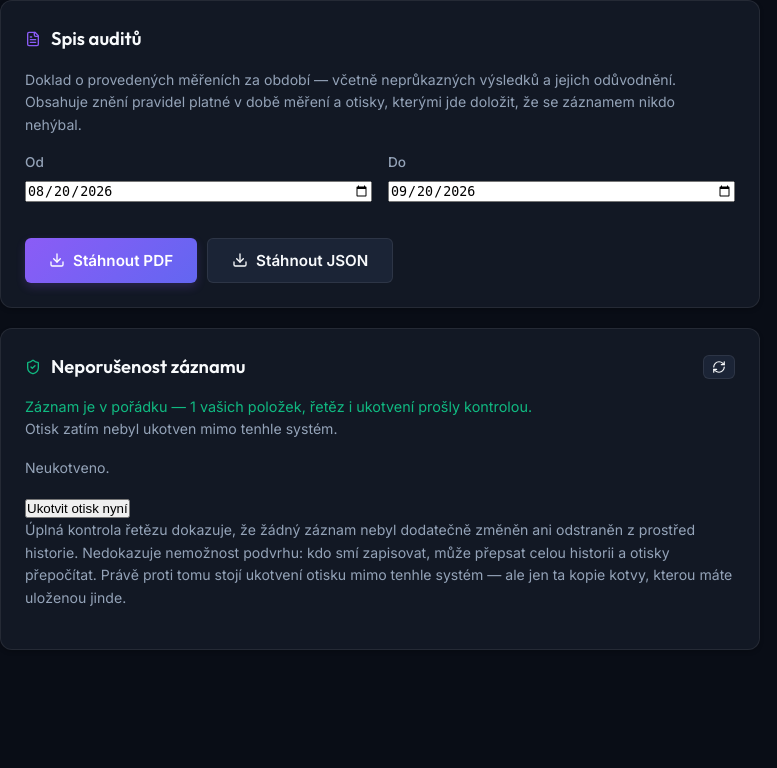
Scenario: ukotvení otisku (D6) › ukotvení vrátí text určený k uložení mimo systém
The image size is (777, 768).
Expected: the text "Záznam je v pořádku — 1 vašich položek, řetěz i ukotvení prošly kontrolou." is shown, x1=25 y1=398 x2=532 y2=416
What coordinates should you click on to do the following:
click the button "Ukotvit otisk nyní"
I would click on:
 (77, 509)
Its box is x1=25 y1=499 x2=130 y2=518.
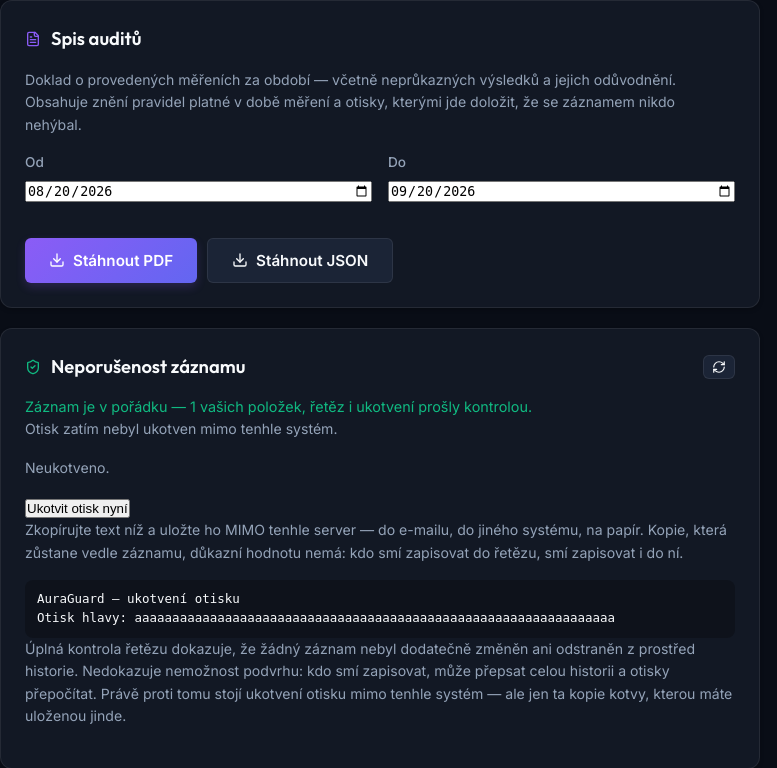
Now the text "MIMO tenhle server" is shown, box x1=25 y1=521 x2=727 y2=561
